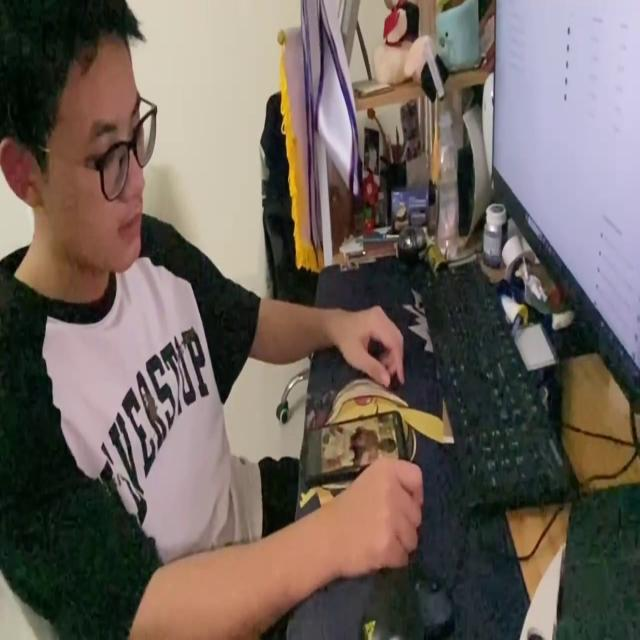laptop: (490, 6, 640, 412)
phone: (300, 408, 406, 473)
student: (1, 0, 425, 640)
